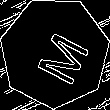M_NW: (23, 20, 87, 85)
